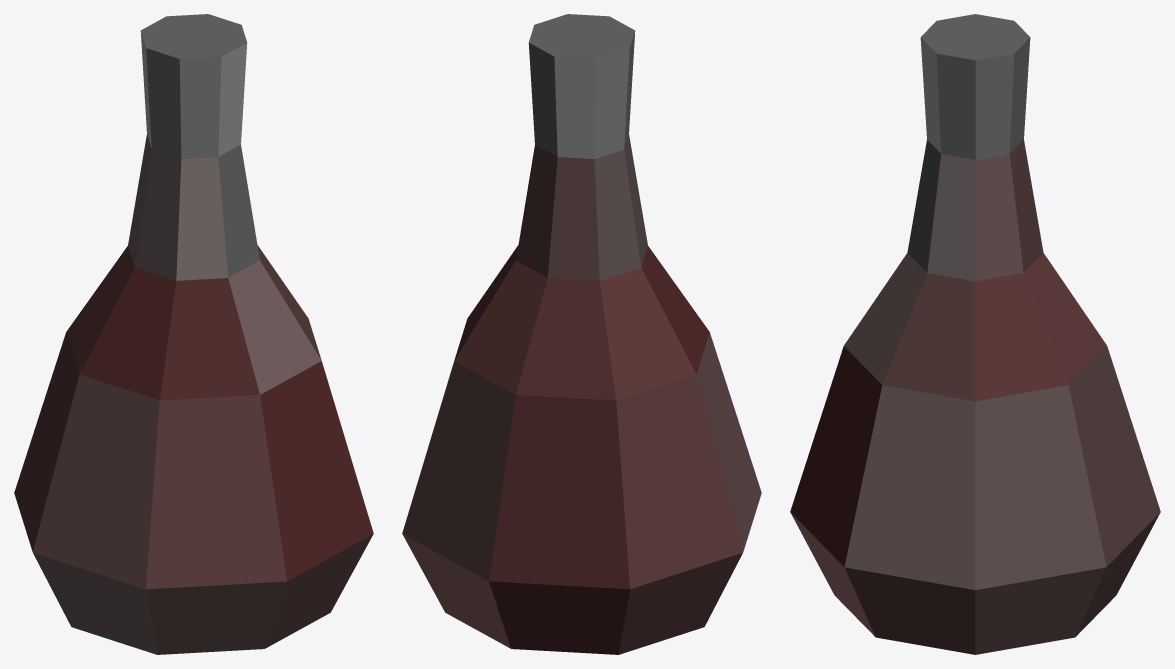
The model's file is Prop_VaseA.fbx.
The picture shows the model from 3 angles, left to right: view 1: azimuth 30°, elevation 25°; view 2: azimuth 150°, elevation 25°; view 3: azimuth 270°, elevation 25°; orthographic projection.
Visible parts, largest first — view 1: Prop_VaseA; view 2: Prop_VaseA; view 3: Prop_VaseA.
Boxes of the visible parts, bbox=[...] form: Prop_VaseA: bbox=[14, 14, 373, 654]; Prop_VaseA: bbox=[402, 14, 761, 654]; Prop_VaseA: bbox=[790, 14, 1160, 654].
Size of the model in its own units: 33.95 by 59.31 by 33.95.
